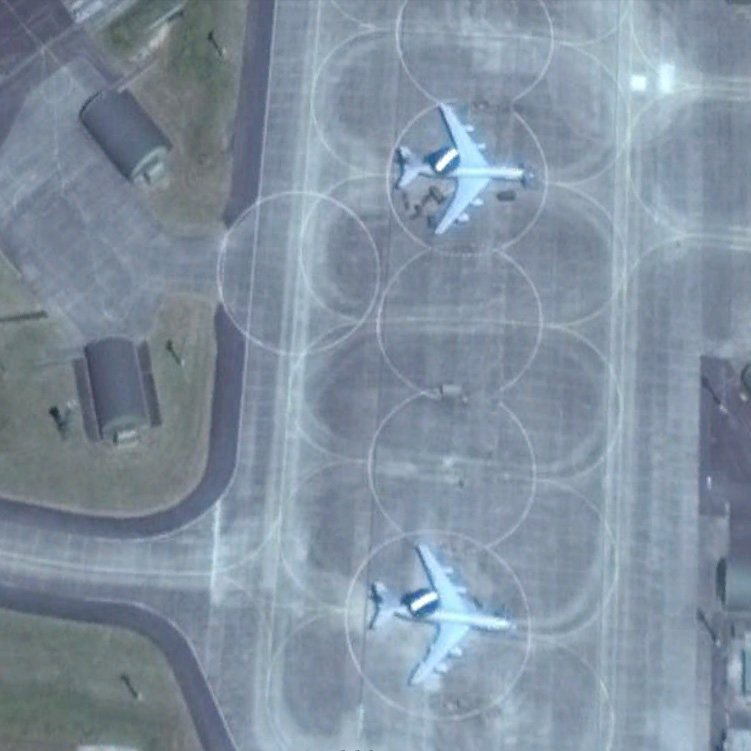A7: (370, 543, 520, 689), (393, 101, 535, 238)
